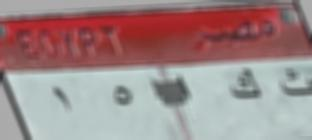1: (48, 79, 76, 118)
5: (110, 81, 135, 110)
kaaf: (224, 65, 263, 107)
thaa: (272, 65, 312, 99)
